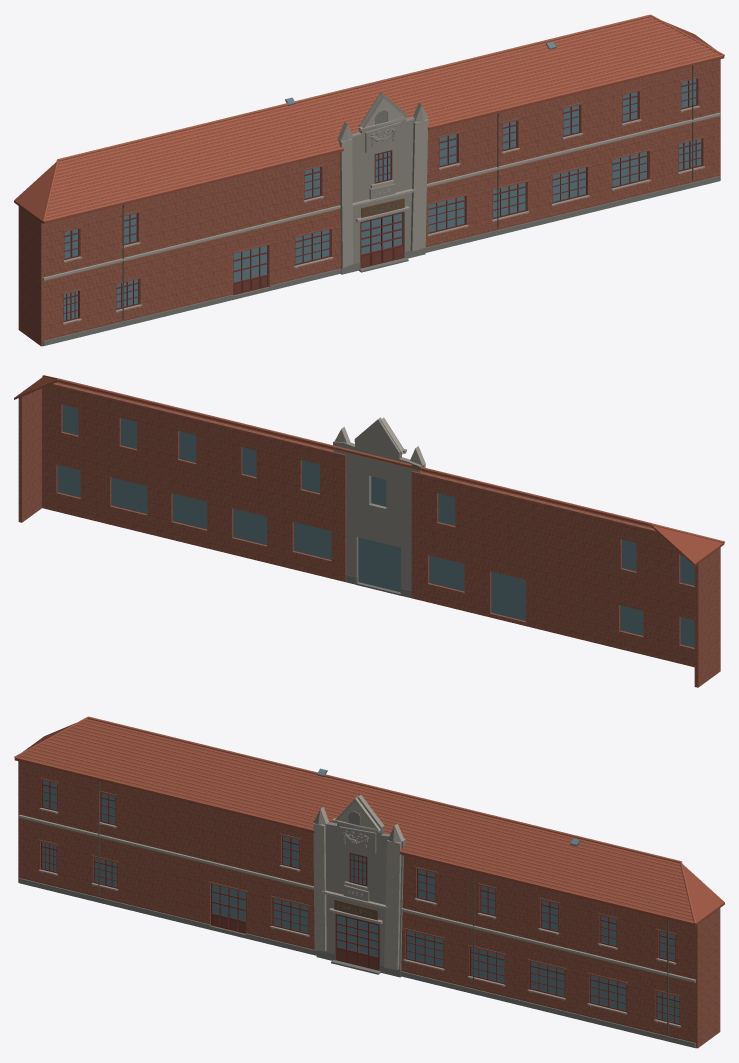
File: huangpu-puyutang-museum-south-front-raw.glb
3 views of the same model, one above another, from view 1: azimuth 30°, elevation 25°; view 2: azimuth 150°, elevation 25°; view 3: azimuth 330°, elevation 25° (orthographic).
Parts seen in each view (by area): view 1: 普育堂旧址一号楼南立面与1925年门厅; view 2: 普育堂旧址一号楼南立面与1925年门厅; view 3: 普育堂旧址一号楼南立面与1925年门厅.
Boxes of the visible parts, bbox=[...] form: 普育堂旧址一号楼南立面与1925年门厅: bbox=[14, 14, 724, 346]; 普育堂旧址一号楼南立面与1925年门厅: bbox=[14, 375, 724, 687]; 普育堂旧址一号楼南立面与1925年门厅: bbox=[14, 716, 724, 1048].
Size of the model in its own units: 48.08 by 11.5 by 3.99.
15 materials, 1 textured.
